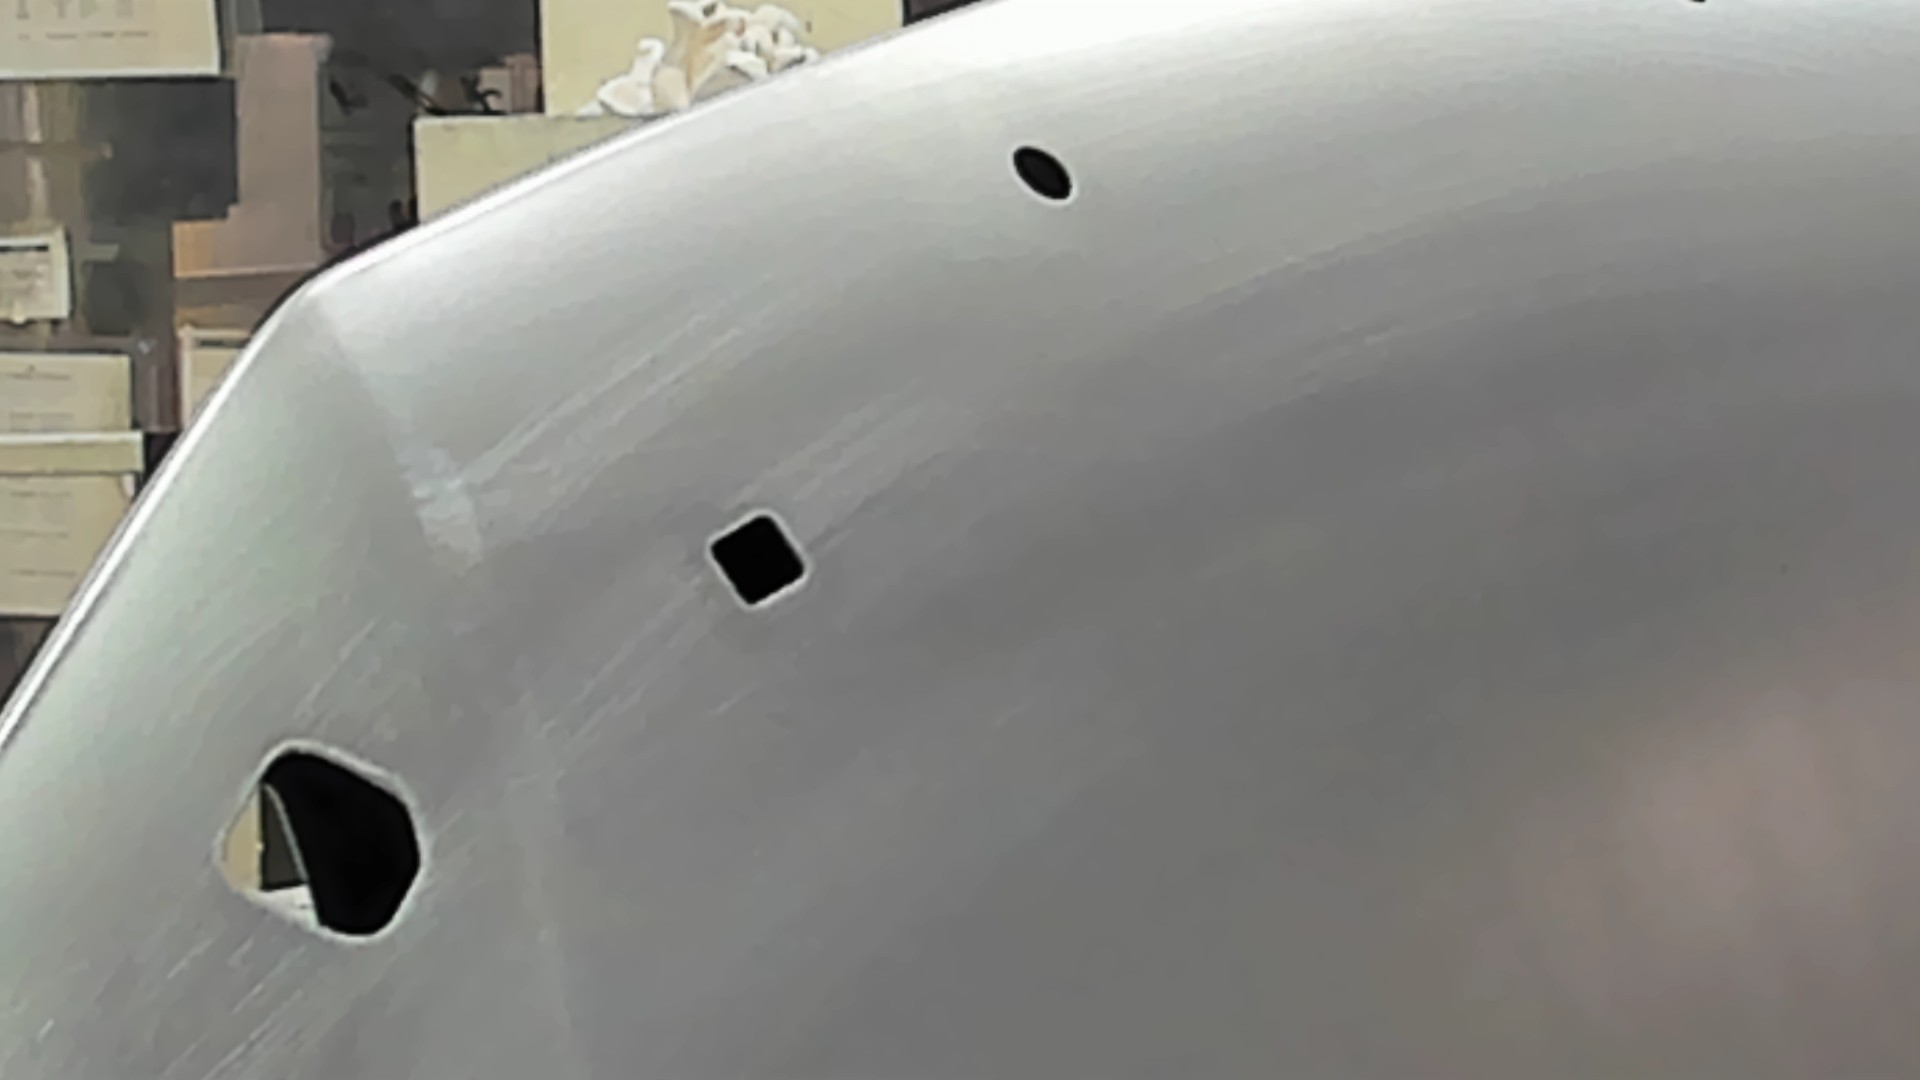capo: (835, 215, 1919, 1080)
chico: (1007, 140, 1077, 206)
grande: (207, 729, 433, 956)
mediano: (698, 500, 818, 615)
